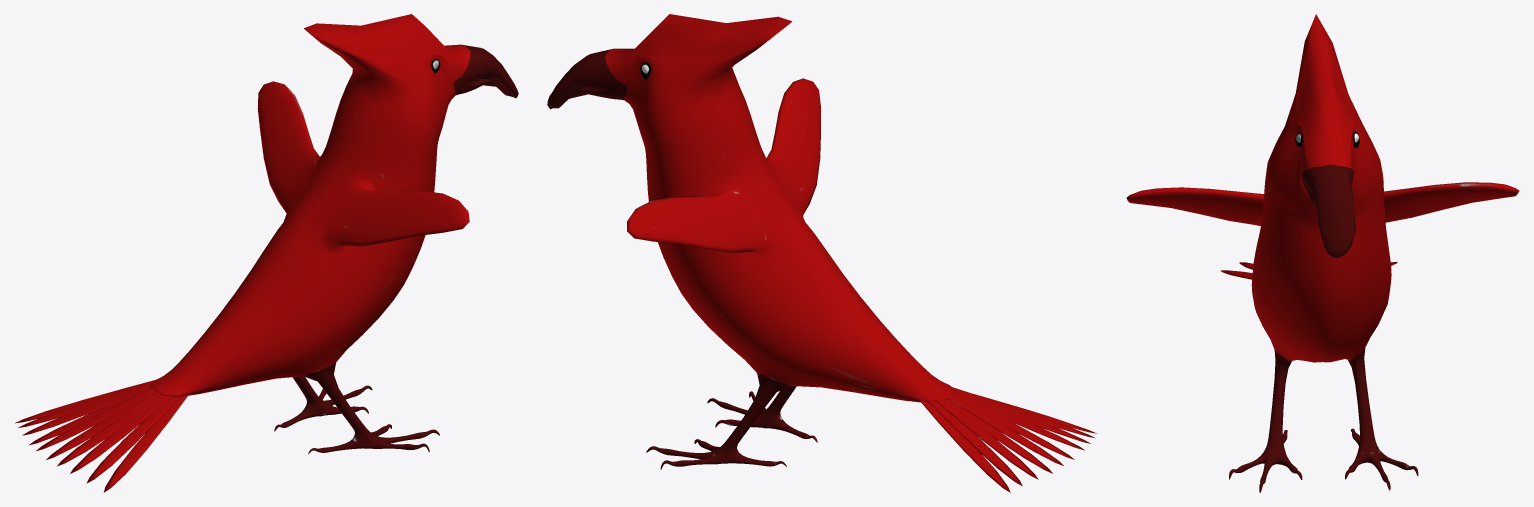
File: relojCuerpoPajaro.obj
The picture shows the model from 3 angles, left to right: view 1: azimuth 30°, elevation 25°; view 2: azimuth 150°, elevation 25°; view 3: azimuth 270°, elevation 25°; orthographic projection. The views are drawn at different scales.
Parts seen in each view (by area): view 1: polySurface74; view 2: polySurface74; view 3: polySurface74.
Boxes of the visible parts, bbox=[...] form: polySurface74: bbox=[15, 14, 518, 492]; polySurface74: bbox=[547, 14, 1096, 492]; polySurface74: bbox=[1126, 14, 1519, 492].
Bounding box in the file's own units: 14.19 × 11.56 × 9.64.
1 material, 1 textured.
